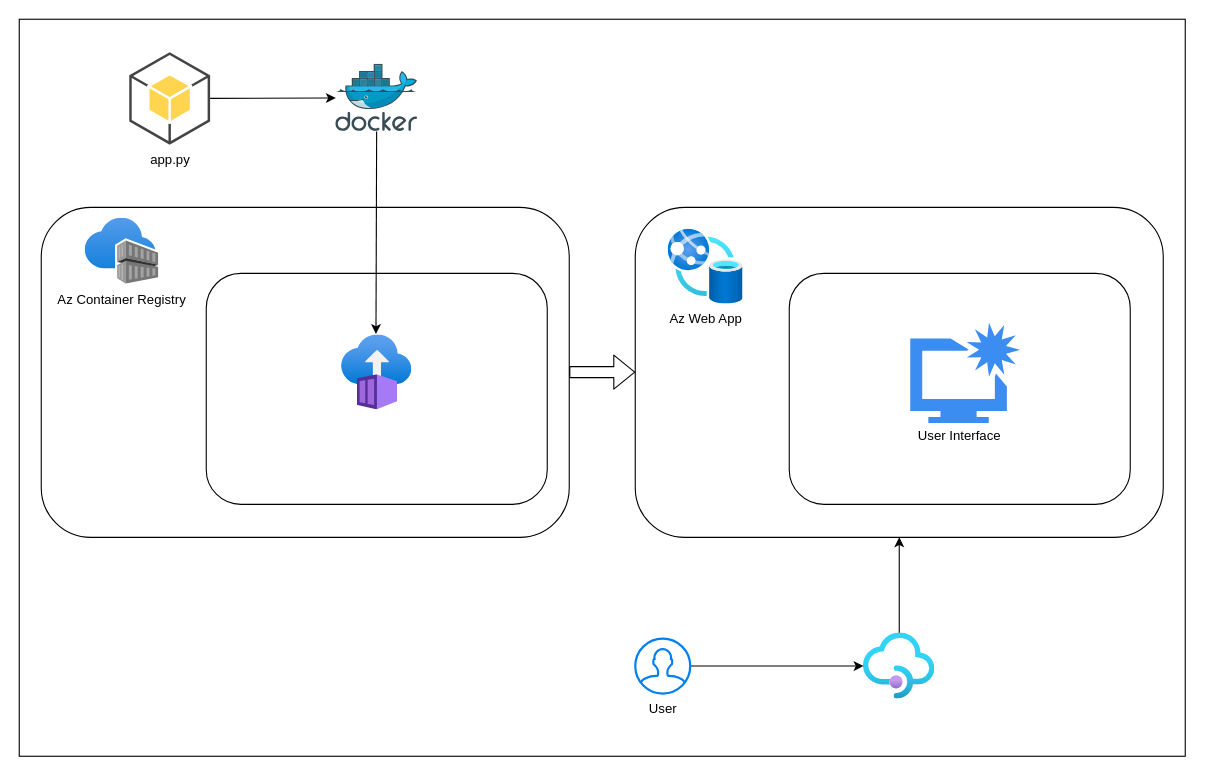
The diagram is 1205 pixels wide and 776 high, and some of its shapes have lost their labels. Here are the shapes that lost their labels. From the top down, the centre of each, then its label:
pixel 376 371: Az Container Instance
pixel 898 665: Az API
